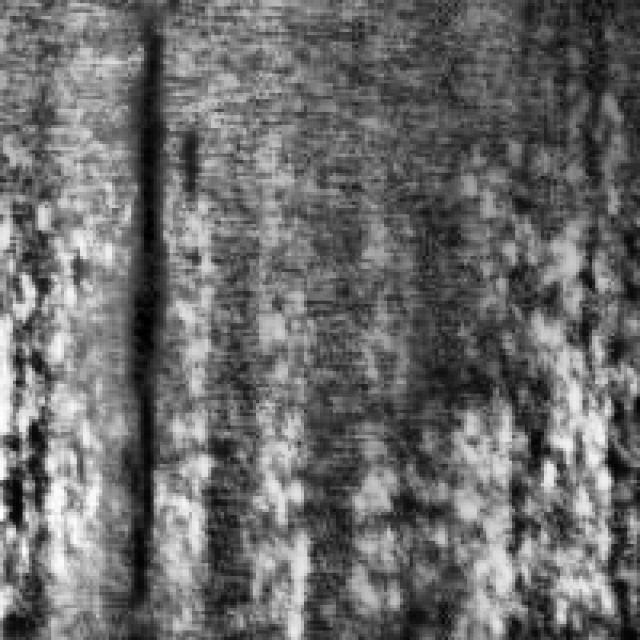Patches: (102, 26, 196, 604)
